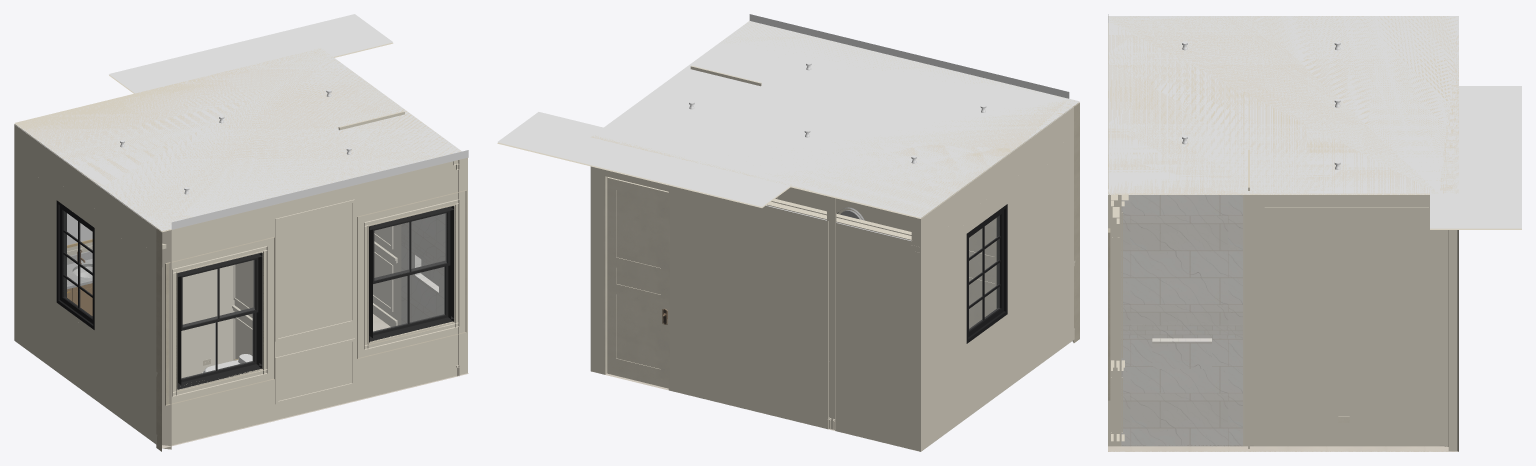
Rendered from primary-bath-81c1c017de4f.glb.
3 renders of one model, left to right at view 1: azimuth 30°, elevation 25°; view 2: azimuth 150°, elevation 25°; view 3: azimuth 270°, elevation 25°, orthographic. The views are drawn at different scales.
Parts seen in each view (by area): view 1: primary-bath-9d91b47435c6fb33, primary-bath-b0ade14315e4f1c3, primary-bath-e8793759323e04f0, primary-bath-c51ecd664a3b22a3, primary-bath-60f0db96f832035a, primary-bath-b5cb73c07919def8, primary-bath-look-9d91b47435c6fb33, primary-bath-10eba734bfa580f9, primary-bath-20932135983111ad, primary-bath-62353aa10fc57f23, primary-bath-696f63e7cd8f31cf, primary-bath-2bc0761cc32b9613 (+9 smaller); view 2: primary-bath-9ecc0d558be1c706, primary-bath-9d91b47435c6fb33, primary-bath-c51ecd664a3b22a3, primary-bath-18f70a4a9eda5dac, primary-bath-e8793759323e04f0, primary-bath-look-9d91b47435c6fb33, primary-bath-20932135983111ad, primary-bath-25ea03c5717987c5, primary-bath-e48b5483df8cacdb, primary-bath-b88ac105ef7c3bdb, primary-bath-62353aa10fc57f23, primary-bath-1a6c50e4c3accb7b (+2 smaller); view 3: primary-bath-9d91b47435c6fb33, primary-bath-fc6585fecfaf7ec3, primary-bath-e8793759323e04f0, primary-bath-3d8660a29b1e398e, primary-bath-2bc0761cc32b9613, primary-bath-look-9d91b47435c6fb33, primary-bath-c791a0f218fead78, primary-bath-9ecc0d558be1c706, primary-bath-343da8f45fc39332, primary-bath-b3921aced1f99593, primary-bath-b3dc771ed6f89851, primary-bath-38b306e83be12a4b (+8 smaller).
Part boxes in pixels (bbox=[...]): primary-bath-9d91b47435c6fb33: bbox=[14, 48, 468, 232]; primary-bath-b0ade14315e4f1c3: bbox=[171, 157, 467, 445]; primary-bath-e8793759323e04f0: bbox=[14, 48, 468, 230]; primary-bath-c51ecd664a3b22a3: bbox=[14, 124, 156, 444]; primary-bath-60f0db96f832035a: bbox=[177, 252, 262, 389]; primary-bath-b5cb73c07919def8: bbox=[369, 206, 454, 342]; primary-bath-look-9d91b47435c6fb33: bbox=[109, 14, 393, 93]; primary-bath-10eba734bfa580f9: bbox=[184, 265, 234, 377]; primary-bath-20932135983111ad: bbox=[56, 200, 94, 329]; primary-bath-62353aa10fc57f23: bbox=[156, 228, 171, 451]; primary-bath-696f63e7cd8f31cf: bbox=[172, 246, 267, 396]; primary-bath-2bc0761cc32b9613: bbox=[401, 244, 444, 324]; primary-bath-9ecc0d558be1c706: bbox=[590, 166, 919, 451]; primary-bath-9d91b47435c6fb33: bbox=[591, 21, 1079, 218]; primary-bath-c51ecd664a3b22a3: bbox=[911, 107, 1073, 451]; primary-bath-18f70a4a9eda5dac: bbox=[607, 177, 668, 388]; primary-bath-e8793759323e04f0: bbox=[591, 14, 1074, 215]; primary-bath-look-9d91b47435c6fb33: bbox=[497, 112, 790, 207]; primary-bath-20932135983111ad: bbox=[966, 204, 1007, 343]; primary-bath-25ea03c5717987c5: bbox=[969, 218, 996, 328]; primary-bath-e48b5483df8cacdb: bbox=[827, 196, 836, 430]; primary-bath-b88ac105ef7c3bdb: bbox=[603, 174, 669, 390]; primary-bath-62353aa10fc57f23: bbox=[1072, 103, 1079, 342]; primary-bath-1a6c50e4c3accb7b: bbox=[777, 187, 879, 224]; primary-bath-9d91b47435c6fb33: bbox=[1108, 16, 1458, 194]; primary-bath-fc6585fecfaf7ec3: bbox=[1248, 193, 1458, 451]; primary-bath-e8793759323e04f0: bbox=[1108, 14, 1458, 193]; primary-bath-3d8660a29b1e398e: bbox=[1121, 195, 1242, 324]; primary-bath-2bc0761cc32b9613: bbox=[1121, 338, 1242, 446]; primary-bath-look-9d91b47435c6fb33: bbox=[1430, 86, 1521, 229]; primary-bath-c791a0f218fead78: bbox=[1108, 189, 1247, 451]; primary-bath-9ecc0d558be1c706: bbox=[1447, 230, 1458, 451]; primary-bath-343da8f45fc39332: bbox=[1253, 434, 1439, 446]; primary-bath-b3921aced1f99593: bbox=[1108, 446, 1457, 451]; primary-bath-b3dc771ed6f89851: bbox=[1264, 207, 1428, 352]; primary-bath-38b306e83be12a4b: bbox=[1121, 324, 1242, 338].
Bounding box in the file's own units: 5.14 × 3.04 × 4.23.
38 materials, 8 textured.
